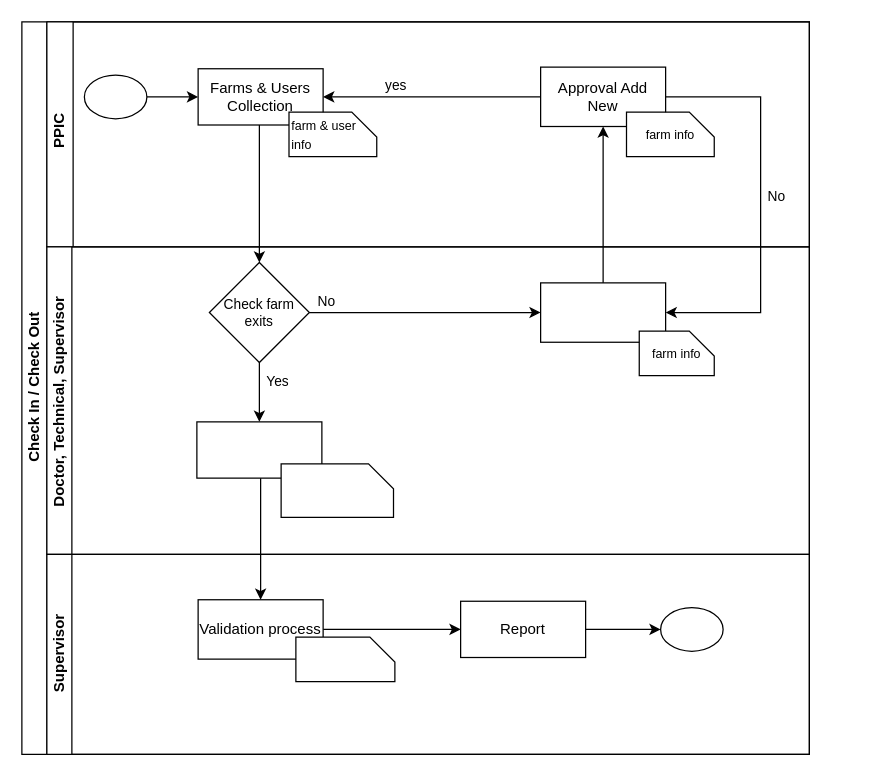
Some shapes in this 883 by 776 pixel diagram are drawn without their labels. Each missing label, with the centre of its shape:
Check In/ Check Out: point 259,449
END: point 691,628
Request Add New: point 602,312
START: point 115,96
Take image & Fill all necessary info: point 337,490
User's Check In/Out info: point 345,659
